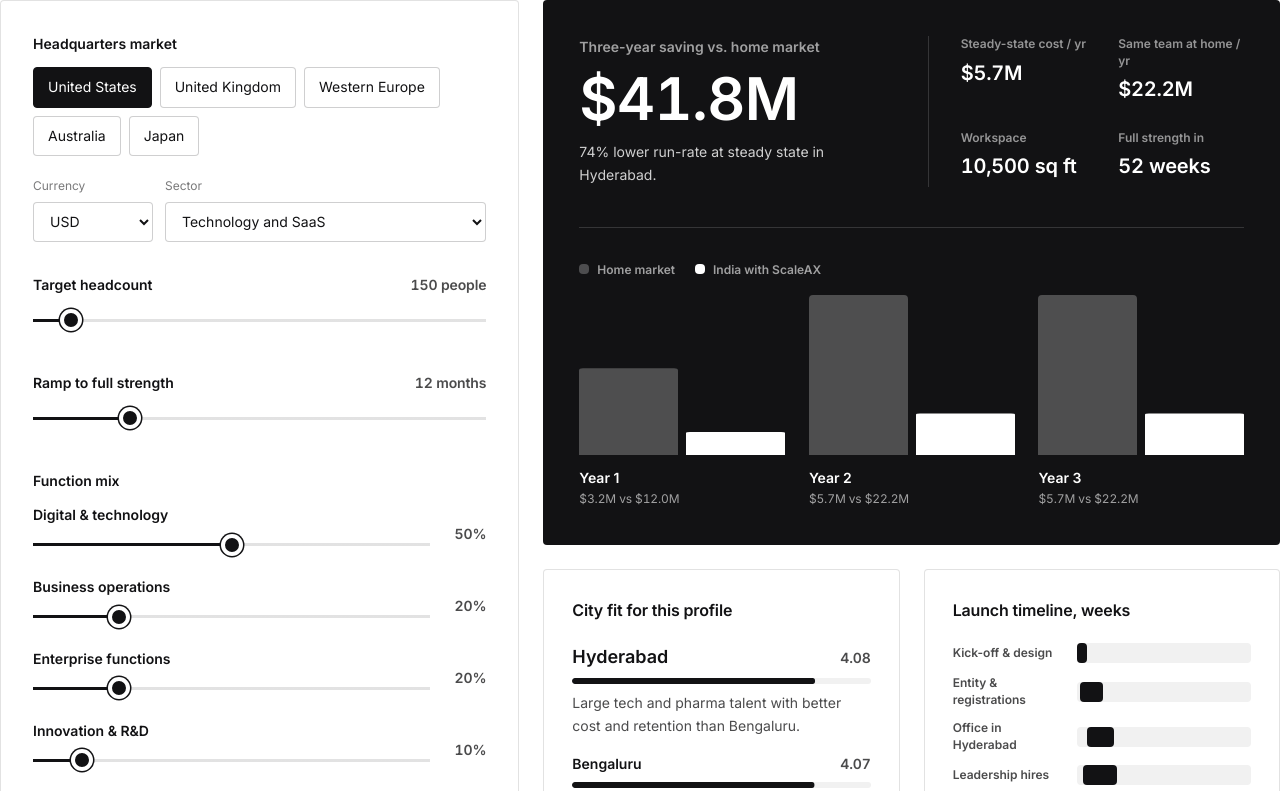
Scenario: CostCalculator (GCC Planner) › the ramp slider drives the full-strength weeks
Set the slider named "Ramp months" to "24" at (303, 418), box [33,406,486,430]
(page scrolled)
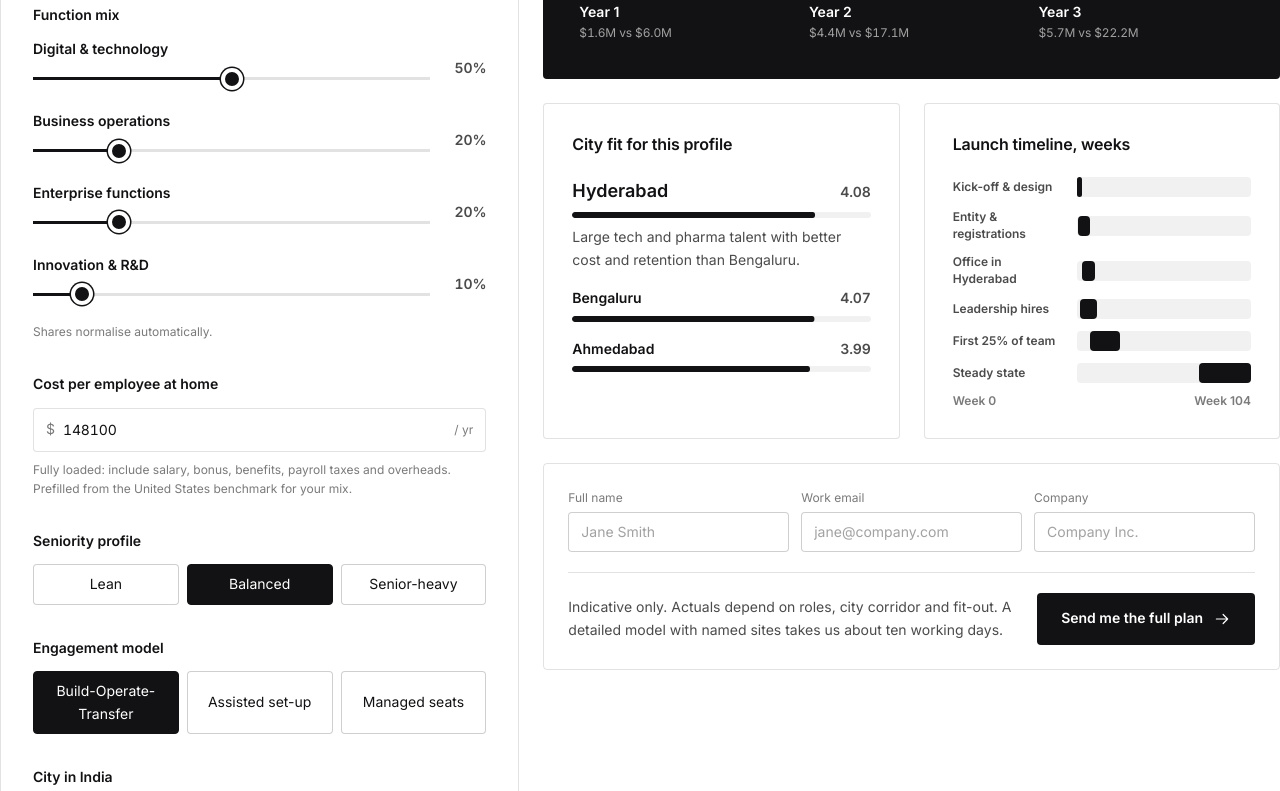
Result: the text "Week 104" is shown at [1194,391,1251,410]
